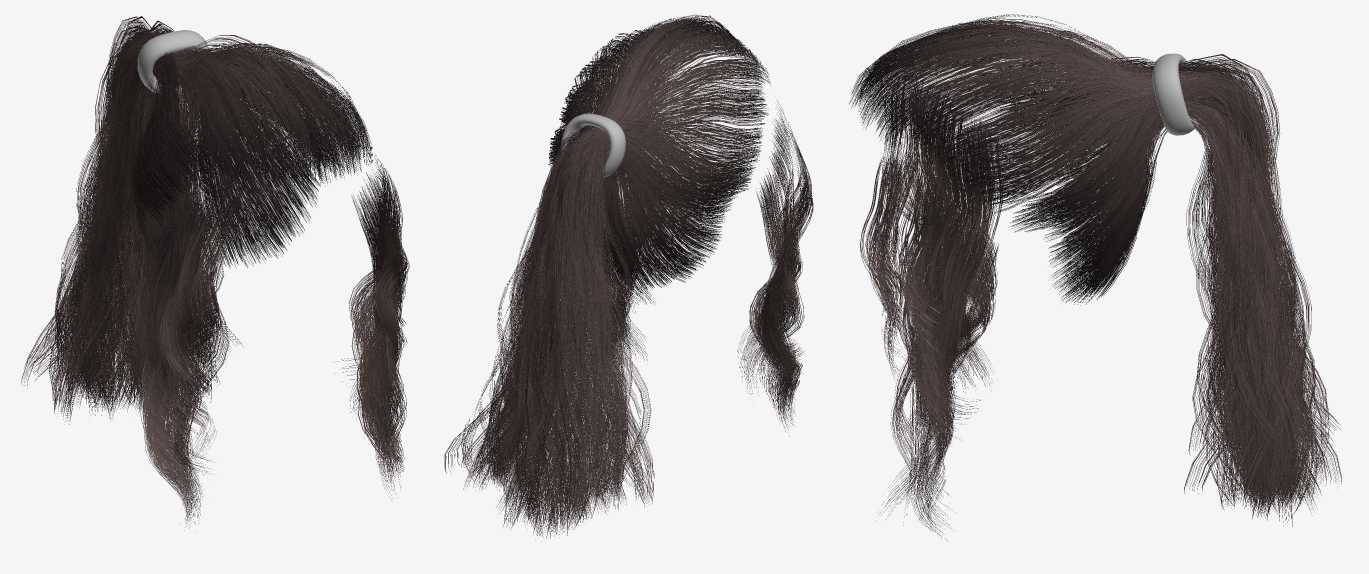
Rendered from Hair07.fbx.
3 renders of one model, left to right at view 1: azimuth 30°, elevation 25°; view 2: azimuth 150°, elevation 25°; view 3: azimuth 270°, elevation 25°, orthographic. The views are drawn at different scales.
Visible parts, largest first — view 1: hair7; view 2: hair7; view 3: hair7.
Boxes of the visible parts, x1,y1,x2,y2 form: hair7: [21, 16, 409, 527]; hair7: [444, 14, 813, 541]; hair7: [849, 14, 1341, 540].
Size of the model in its own units: 20.6 by 38.3 by 34.81.
Materials: 2 (1 with a texture image).
